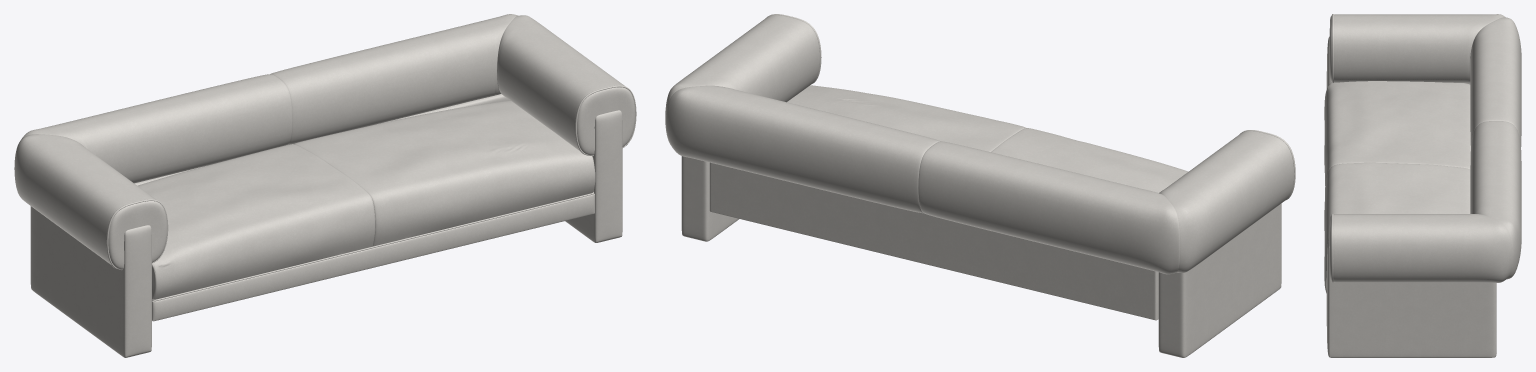
Rendered from Kawi-Sofa-Larforma.glb.
3 renders of one model, left to right at view 1: azimuth 30°, elevation 25°; view 2: azimuth 150°, elevation 25°; view 3: azimuth 270°, elevation 25°, orthographic. The views are drawn at different scales.
Parts seen in each view (by area): view 1: Kawi-larforma; view 2: Kawi-larforma; view 3: Kawi-larforma.
Boxes of the visible parts, left/top/right/bottom form: Kawi-larforma: left=14, top=14, right=636, bottom=357; Kawi-larforma: left=665, top=14, right=1295, bottom=357; Kawi-larforma: left=1324, top=14, right=1521, bottom=357.
Bounding box in the file's own units: 3.18 × 0.8882 × 1.17.
Materials: 2 (1 with a texture image).
